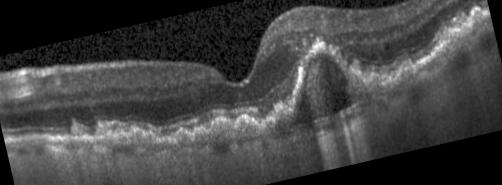subretinal_fluid: (291, 52, 357, 125)
subretinal_hyperreflective_material: (166, 105, 292, 147), (438, 8, 489, 51), (368, 59, 415, 89), (98, 124, 157, 146)
